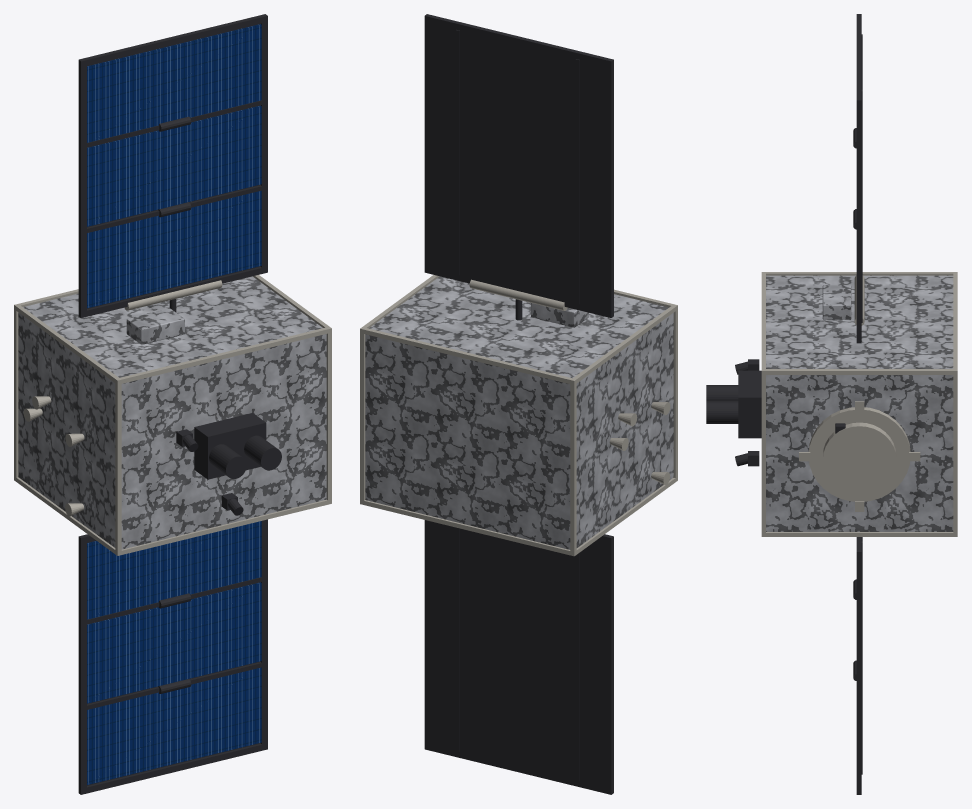
File: chaser.high.glb
3 renders of one model, left to right at view 1: azimuth 30°, elevation 25°; view 2: azimuth 150°, elevation 25°; view 3: azimuth 270°, elevation 25°, orthographic. The views are drawn at different scales.
Parts seen in each view (by area): view 1: bus, solar_wing_r, solar_wing_l, bus_frame, payload_0_imager, equip_0, solar_hinge_r; view 2: bus, solar_wing_r, solar_wing_l, bus_frame, solar_hinge_r, equip_0; view 3: bus, servicing_0_docking_port_ring_forward_soft_dock, bus_frame, payload_0_imager, solar_wing_r, solar_wing_l, equip_0.
Part boxes in pixels (left/top/right/bottom): bus: left=18, top=276, right=326, bottom=549; solar_wing_r: left=78, top=14, right=267, bottom=317; solar_wing_l: left=78, top=519, right=267, bottom=794; bus_frame: left=14, top=275, right=331, bottom=555; payload_0_imager: left=194, top=413, right=281, bottom=479; equip_0: left=126, top=308, right=184, bottom=344; solar_hinge_r: left=124, top=280, right=222, bottom=310; bus: left=365, top=276, right=673, bottom=549; solar_wing_r: left=424, top=14, right=613, bottom=317; solar_wing_l: left=424, top=520, right=613, bottom=794; bus_frame: left=360, top=275, right=677, bottom=556; solar_hinge_r: left=469, top=279, right=567, bottom=310; equip_0: left=531, top=303, right=588, bottom=327; bus: left=766, top=275, right=953, bottom=531; servicing_0_docking_port_ring_forward_soft_dock: left=799, top=401, right=920, bottom=511; bus_frame: left=761, top=272, right=957, bottom=536; payload_0_imager: left=706, top=370, right=761, bottom=438; solar_wing_r: left=853, top=14, right=862, bottom=343; solar_wing_l: left=853, top=537, right=862, bottom=794; equip_0: left=822, top=285, right=851, bottom=319.
Bounding box in the file's own units: 2.1 × 6 × 1.97.
Materials: 6 (3 with a texture image).
